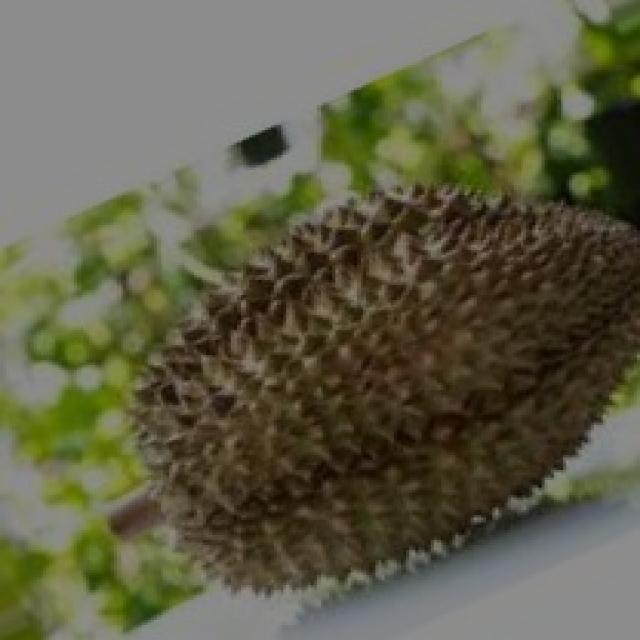fruit: (249, 160, 640, 618), (86, 242, 412, 630)
